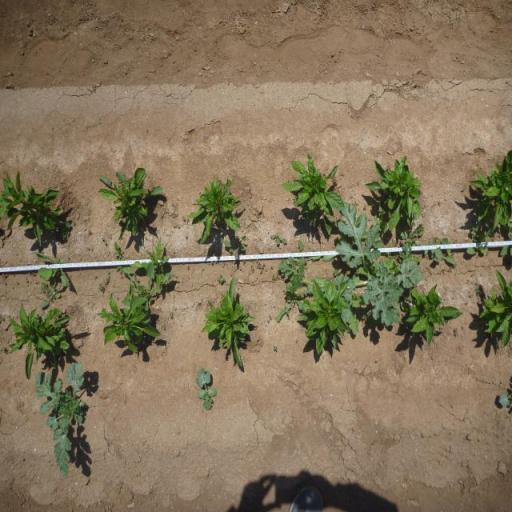plant: (280, 149, 345, 243), (200, 273, 259, 370), (363, 155, 425, 232), (0, 177, 62, 248), (188, 173, 247, 247), (4, 305, 70, 371), (97, 297, 161, 358), (465, 141, 512, 224), (97, 167, 149, 241), (403, 284, 462, 349), (298, 284, 349, 356), (478, 268, 512, 346)
weed: (276, 203, 426, 332), (34, 362, 88, 479), (394, 210, 460, 268), (121, 264, 177, 326), (127, 240, 174, 285), (272, 286, 312, 324), (32, 248, 72, 285), (193, 366, 219, 412), (460, 224, 495, 257), (38, 277, 62, 309), (223, 234, 248, 256), (114, 244, 124, 270), (272, 232, 288, 246), (61, 222, 72, 240), (103, 269, 112, 286), (256, 263, 266, 275), (272, 272, 282, 283), (359, 310, 368, 322), (216, 274, 226, 284), (98, 283, 104, 293), (454, 328, 460, 338), (230, 266, 238, 273), (474, 286, 480, 293), (228, 248, 234, 254), (107, 292, 112, 299), (274, 345, 278, 352), (162, 325, 166, 330), (182, 216, 186, 221), (251, 267, 254, 272)
